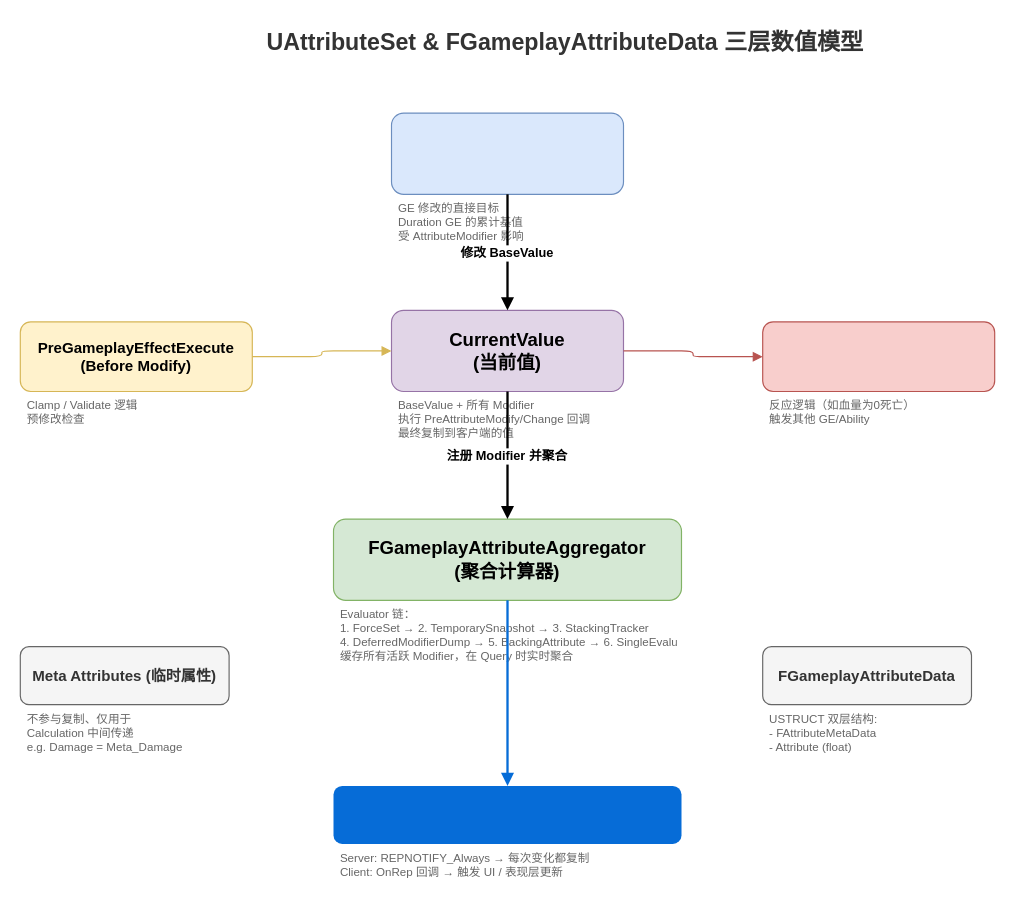
The diagram is 1015 pixels wide and 913 high, and some of its shapes have lost their labels. The centre of each missing label's shape, as x and y in pixels:
BaseValue (基础值): point (507, 153)
PostGameplayEffectExecute (After Modify): point (878, 356)
网络复制 (Replication): point (507, 814)
